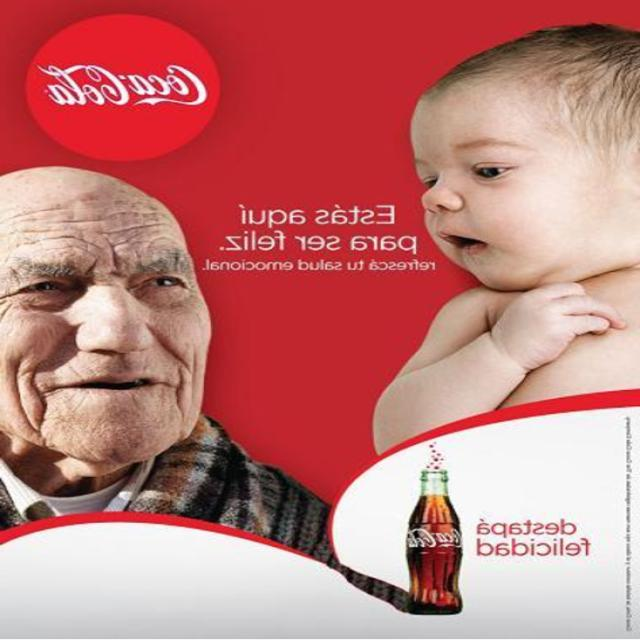coca cola: (33, 39, 203, 124), (401, 520, 466, 554)
